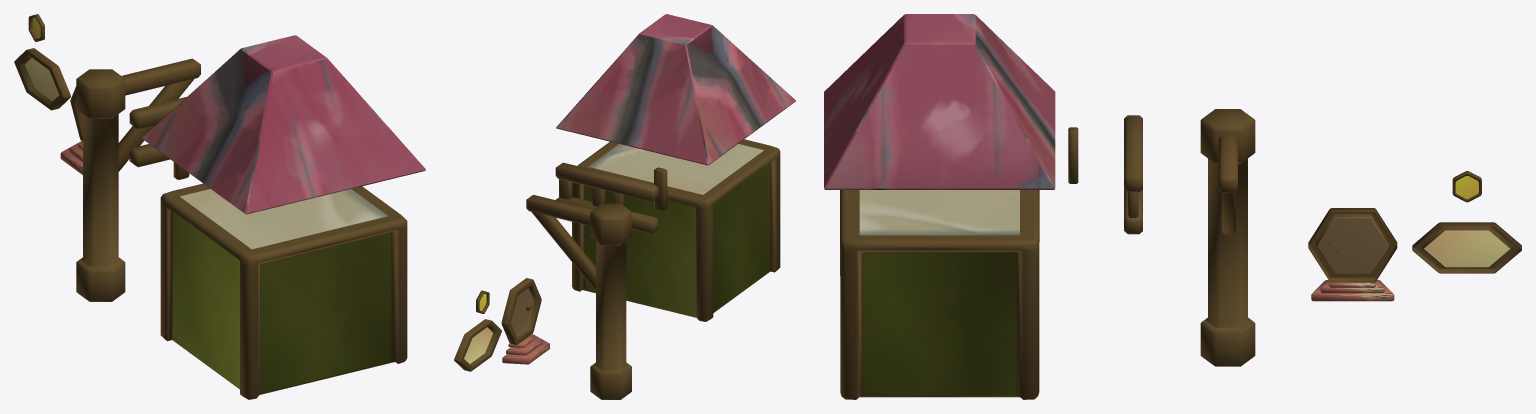
File: House_Parts.fbx
3 views of the same model, side by side, from view 1: azimuth 30°, elevation 25°; view 2: azimuth 150°, elevation 25°; view 3: azimuth 270°, elevation 25° (orthographic). The views are drawn at different scales.
Parts seen in each view (by area): view 1: House_Block, Roof, Pillar, Pillar_Support_A, Window_Big, Pillar_Support_B, Stair_stairs, Window_Smol; view 2: House_Block, Roof, Pillar, Pillar_Support_B, Pillar_Support_A, Door, Window_Big, Stair_stairs, Wood_Pole; view 3: House_Block, Roof, Pillar, Door, Window_Big, Pillar_Support_B, Pillar_Support_A, Stair_stairs, Window_Smol, Wood_Pole.
Boxes of the visible parts, box(x1,y1,x2,y2) form: House_Block: box(160, 183, 407, 399); Roof: box(142, 35, 425, 214); Pillar: box(76, 69, 125, 301); Pillar_Support_A: box(118, 58, 200, 171); Window_Big: box(14, 48, 70, 110); Pillar_Support_B: box(129, 97, 186, 167); Stair_stairs: box(60, 141, 82, 174); Window_Smol: box(28, 14, 44, 41); House_Block: box(572, 139, 780, 321); Roof: box(556, 14, 795, 165); Pillar: box(590, 203, 631, 399); Pillar_Support_B: box(555, 162, 658, 233); Pillar_Support_A: box(526, 195, 595, 290); Door: box(501, 278, 541, 344); Window_Big: box(454, 319, 501, 371); Stair_stairs: box(502, 334, 549, 364); Wood_Pole: box(654, 167, 667, 210); House_Block: box(840, 190, 1039, 399); Roof: box(824, 14, 1055, 189); Pillar: box(1200, 109, 1255, 366); Door: box(1308, 208, 1397, 282); Window_Big: box(1412, 222, 1521, 273); Pillar_Support_B: box(1124, 115, 1142, 234); Pillar_Support_A: box(1219, 135, 1237, 234); Stair_stairs: box(1311, 280, 1394, 301); Window_Smol: box(1452, 171, 1481, 202); Wood_Pole: box(1068, 127, 1078, 183).
Bounding box in the file's own units: 1469 × 2508 × 4430.
